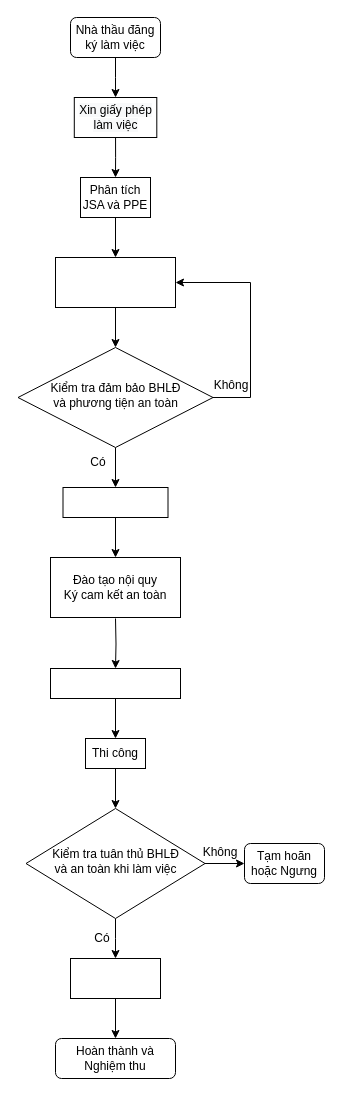
Some shapes in this 342 by 1096 pixel diagram are drawn without their labels. Here are the shapes that lost their labels. From the top down, the box of each, then its label:
(54, 256, 176, 308): Chuẩn bị BHLĐ và phương tiện an toàn
(62, 486, 168, 518): Khai báo thông tin
(50, 668, 180, 698): Cấp giấy phép làm việc
(70, 958, 160, 998): Kiểm soát tài sản mang ra
